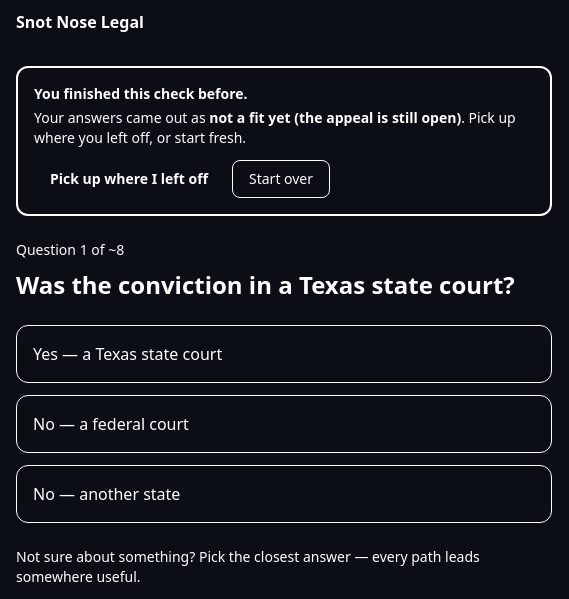
Test: eligibility check — resume and check back later › offers to pick up a finished check from this browser, then lands on that outcome
Expected: the element with test id "resume-check" shows "not a fit yet (the appeal is still open)", [209, 108, 461, 127]
Click the button with test id "resume-yes" at (129, 179), box [34, 160, 224, 198]
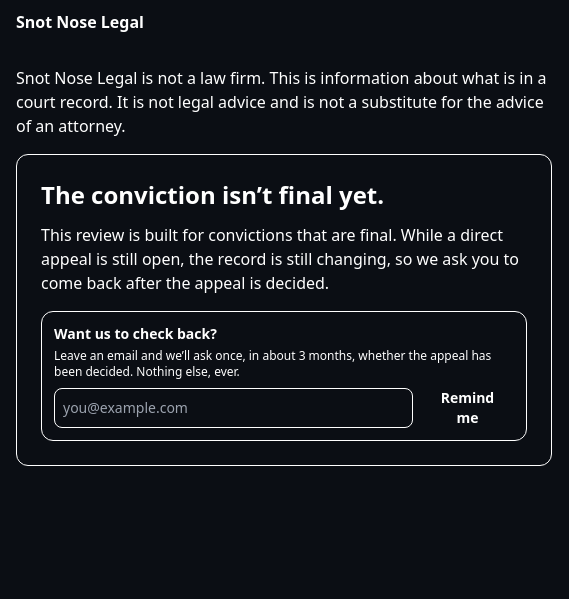
Result: the element with test id "outcome-pending" is shown at [16, 154, 552, 466]
